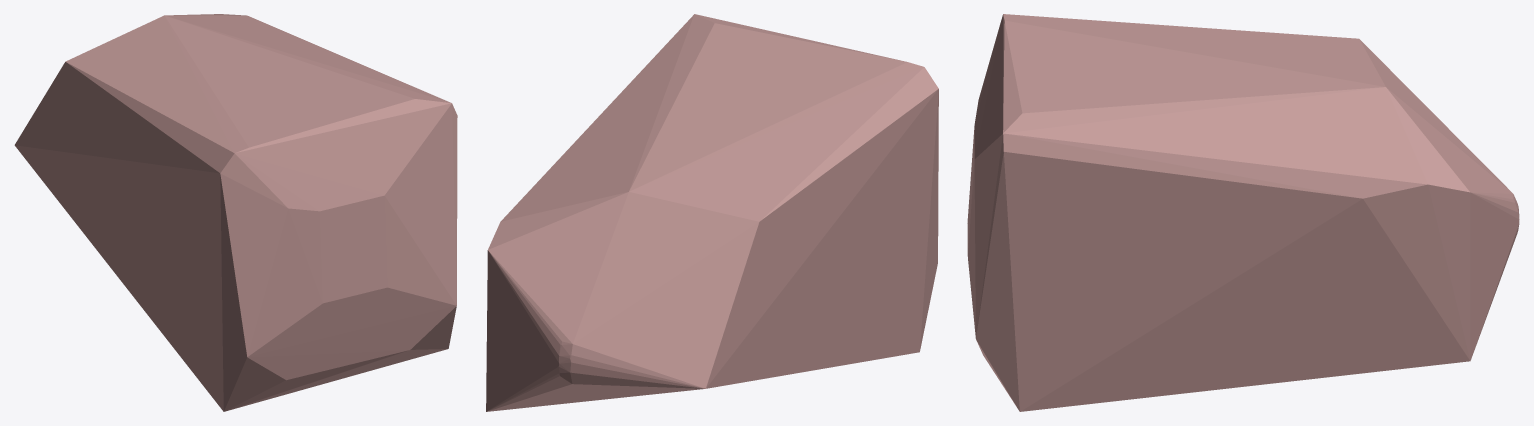
The model's file is waste_recycling_container_a01.glb.
3 views of the same model, side by side, from view 1: azimuth 30°, elevation 25°; view 2: azimuth 150°, elevation 25°; view 3: azimuth 270°, elevation 25° (orthographic). The views are drawn at different scales.
Parts seen in each view (by area): view 1: geometry_0; view 2: geometry_0; view 3: geometry_0.
Boxes of the visible parts, bbox=[...] form: geometry_0: bbox=[14, 14, 457, 411]; geometry_0: bbox=[486, 14, 938, 411]; geometry_0: bbox=[967, 14, 1519, 411].
Size of the model in its own units: 0.2604 by 0.2782 by 0.4794.
